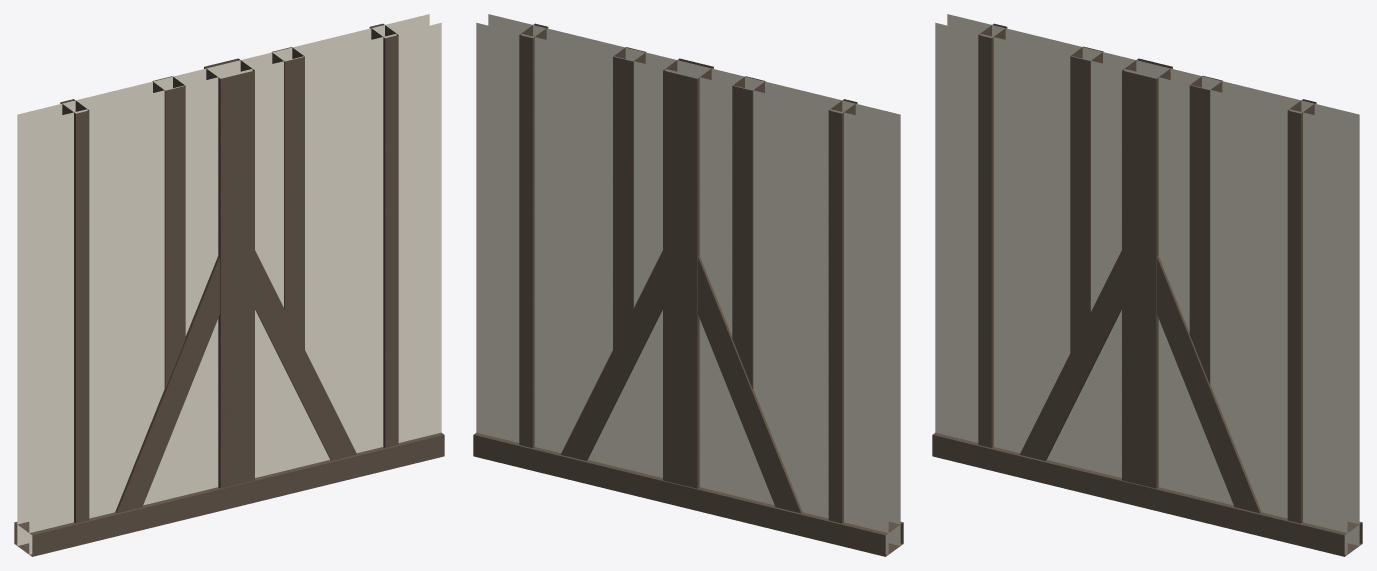
Rendered from Wall_1C.fbx.
The picture shows the model from 3 angles, left to right: view 1: azimuth 30°, elevation 25°; view 2: azimuth 150°, elevation 25°; view 3: azimuth 330°, elevation 25°; orthographic projection.
Parts seen in each view (by area): view 1: pCube761; view 2: pCube761; view 3: pCube761.
Boxes of the visible parts, left/top/right/bottom form: pCube761: left=14, top=14, right=444, bottom=556; pCube761: left=473, top=14, right=903, bottom=556; pCube761: left=932, top=14, right=1362, bottom=556.
Bounding box in the file's own units: 400 × 400 × 30.
